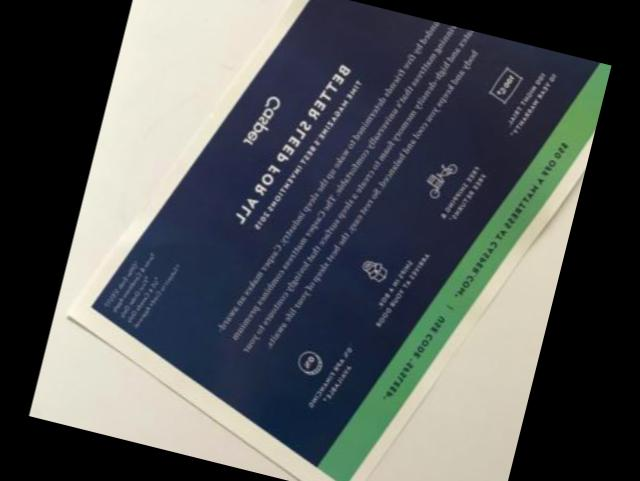cardboard paper: (69, 0, 609, 481)
